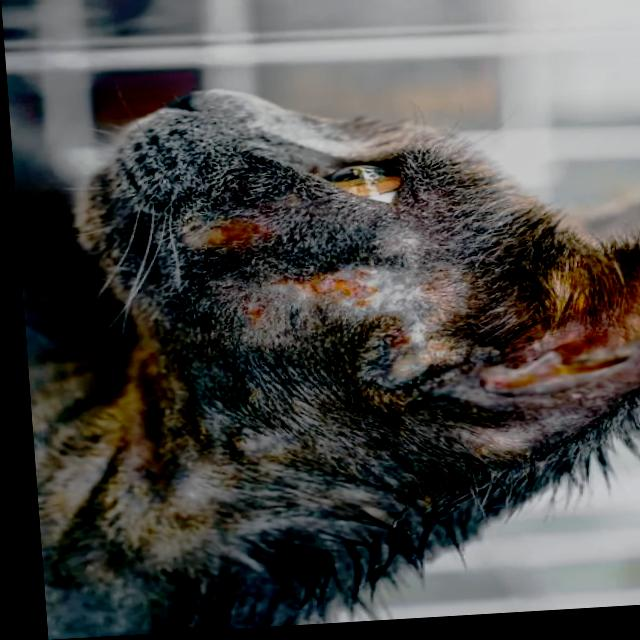ringworm: (255, 268, 423, 378), (179, 211, 273, 265)
